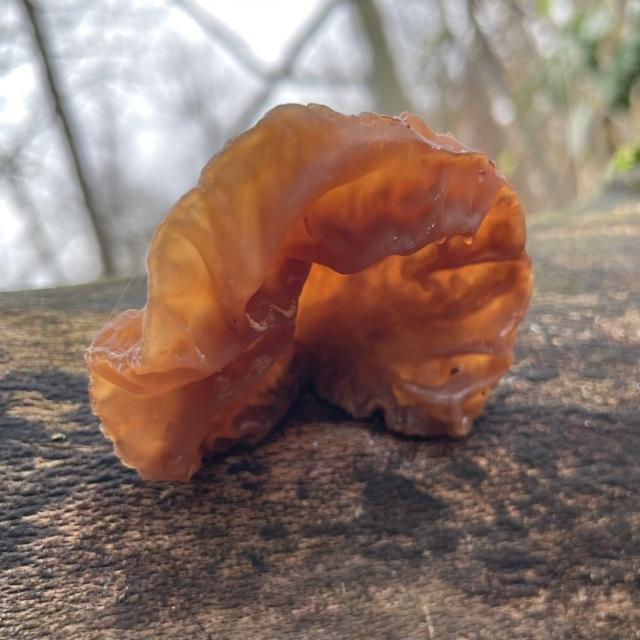Matang: (83, 88, 539, 489)
